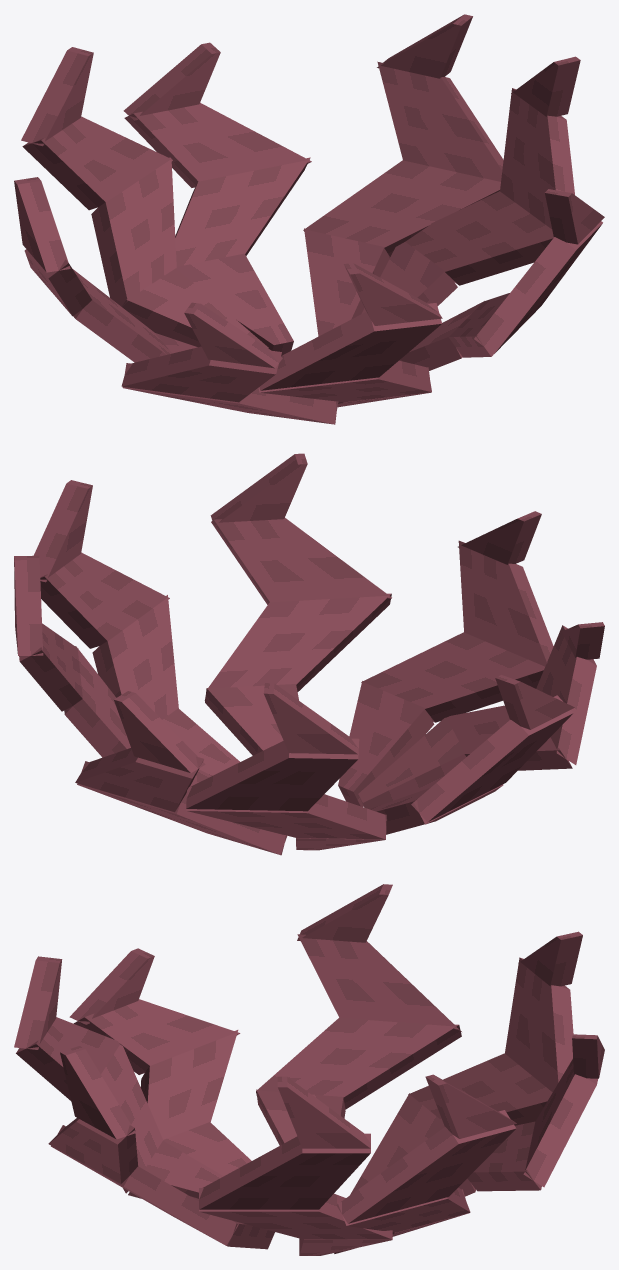
The model's file is f_algae_red.glb.
The picture shows the model from 3 angles, top to bottom: view 1: azimuth 30°, elevation 25°; view 2: azimuth 150°, elevation 25°; view 3: azimuth 270°, elevation 25°; orthographic projection. The views are drawn at different scales.
Visible parts, largest first — view 1: block_wavy-leaflike-frond (×29); view 2: block_wavy-leaflike-frond (×29); view 3: block_wavy-leaflike-frond (×30).
Boxes of the visible parts, box(x1,y1,x2,y2) form: block_wavy-leaflike-frond (×29): box(14, 14, 604, 424); block_wavy-leaflike-frond (×29): box(14, 453, 604, 854); block_wavy-leaflike-frond (×30): box(14, 884, 604, 1255).
Size of the model in its own units: 0.4012 by 0.2006 by 0.4038.
Materials: 1 (1 with a texture image).
